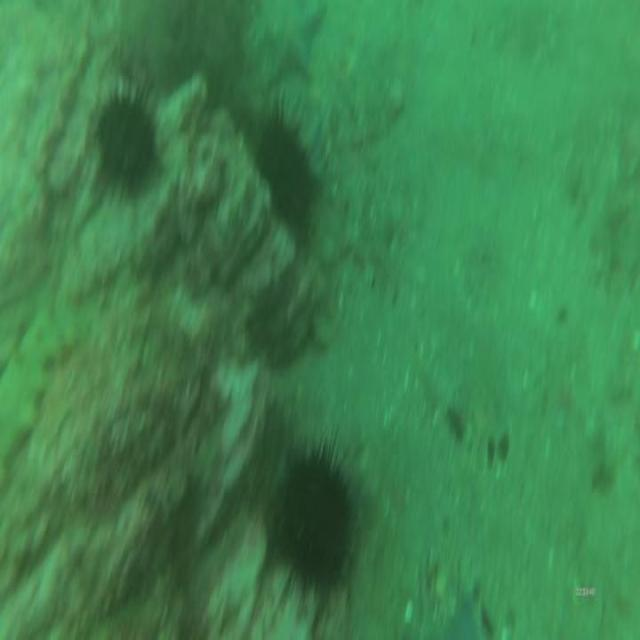echinus: (276, 454, 348, 596), (259, 117, 313, 237), (96, 95, 149, 188)
scallop: (430, 564, 448, 599)
